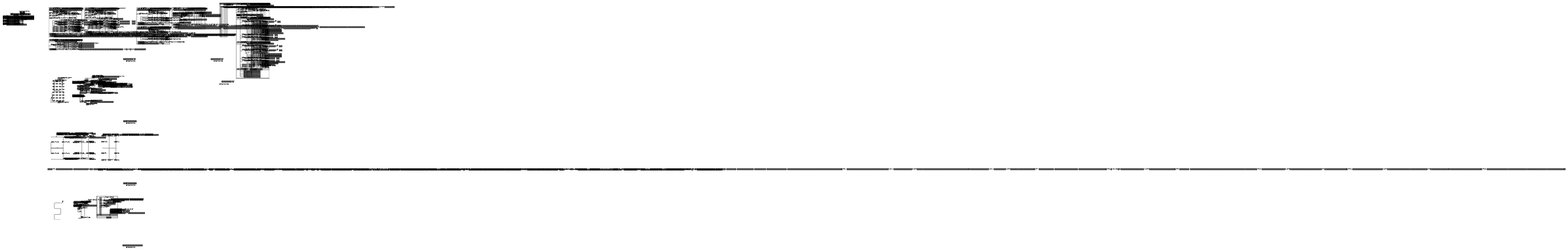room: (318, 229, 332, 231), (68, 228, 81, 230), (318, 227, 332, 228), (68, 226, 81, 227)
wall: (374, 14, 400, 26), (184, 143, 187, 145), (184, 159, 187, 160)
